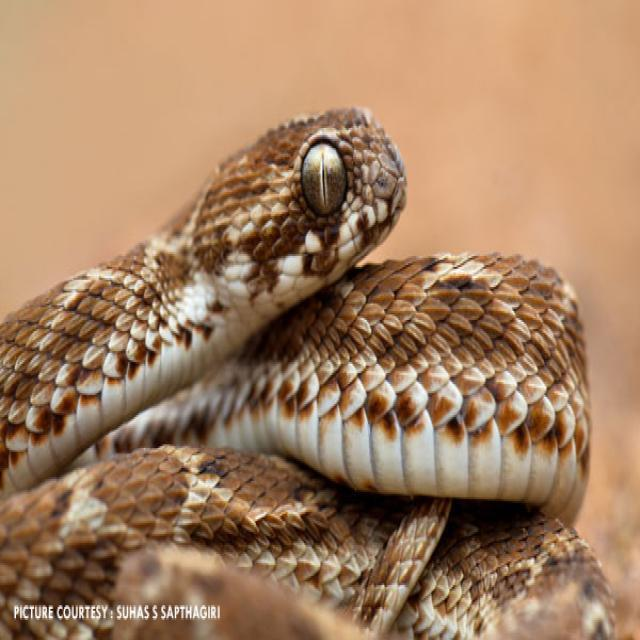Snake: (0, 98, 596, 580)
